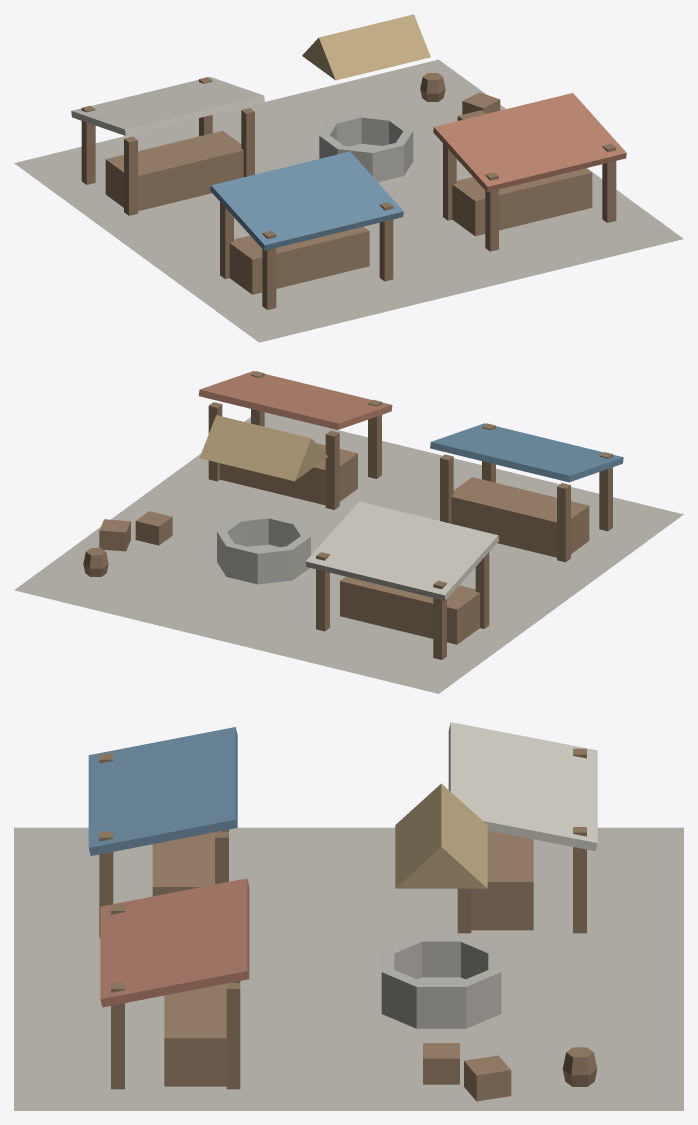
Rendered from market_small.lite.glb.
3 views of the same model, one above another, from view 1: azimuth 30°, elevation 25°; view 2: azimuth 150°, elevation 25°; view 3: azimuth 270°, elevation 25° (orthographic). The views are drawn at different scales.
Visible parts, largest first — view 1: market_small; view 2: market_small; view 3: market_small.
Boxes of the visible parts, x1,y1,x2,y2 form: market_small: (14, 14, 683, 342); market_small: (14, 371, 683, 693); market_small: (14, 722, 683, 1110).
Bounding box in the file's own units: 2.9 × 0.92 × 2.9.
